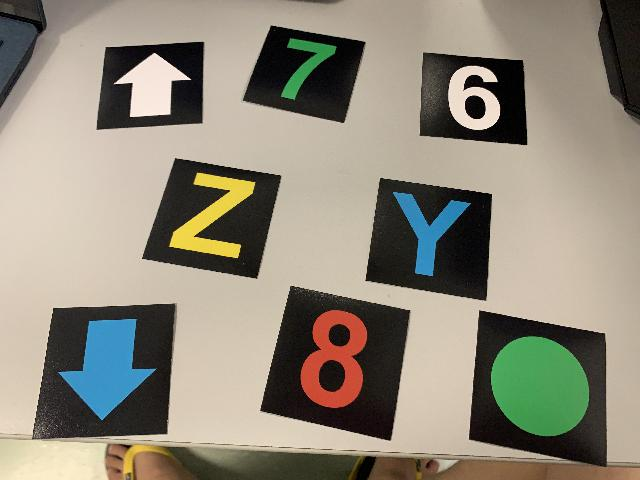alphabet_y: (365, 175, 494, 301)
alphabet_z: (167, 157, 271, 271)
down_arrow: (44, 302, 177, 431)
eight: (276, 292, 399, 432)
go: (467, 309, 608, 466)
seven: (241, 24, 367, 124)
six: (419, 51, 529, 146)
up_arrow: (102, 41, 202, 125)
